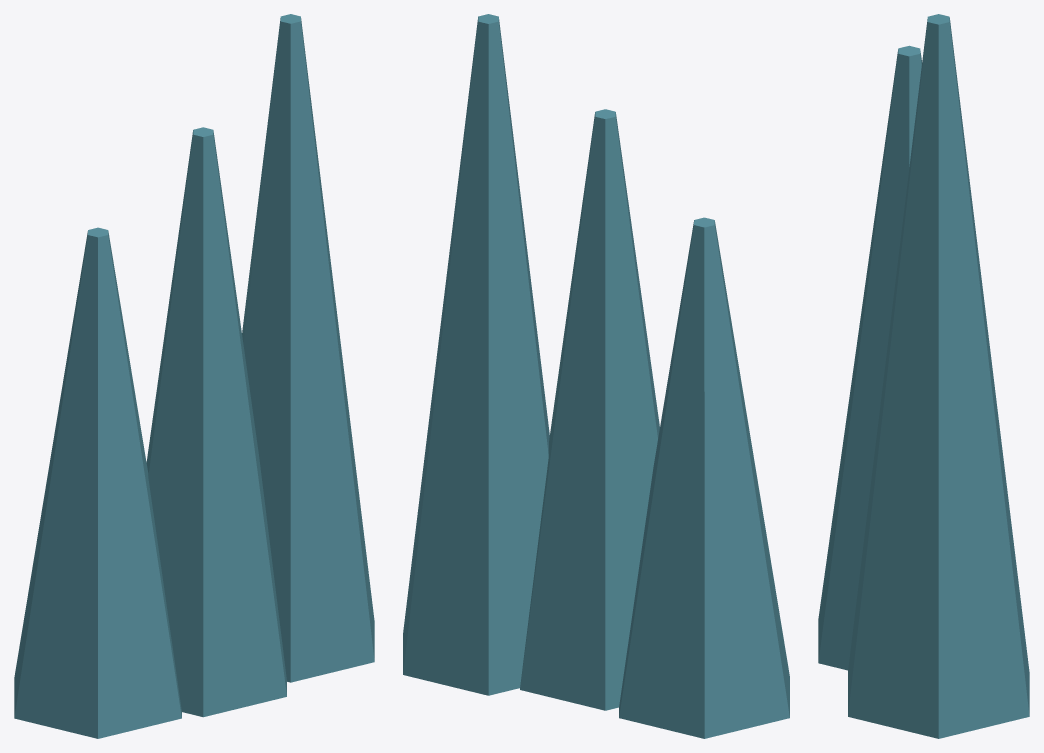
The model's file is map-boundaries-v5__frost_05.glb.
3 views of the same model, side by side, from view 1: azimuth 30°, elevation 25°; view 2: azimuth 150°, elevation 25°; view 3: azimuth 270°, elevation 25° (orthographic). The views are drawn at different scales.
Parts seen in each view (by area): view 1: frost_05; view 2: frost_05; view 3: frost_05.
Part boxes in pixels (x1=…): frost_05: x1=14, y1=14, x2=374, y2=738; frost_05: x1=403, y1=14, x2=789, y2=738; frost_05: x1=818, y1=14, x2=1029, y2=738.
Size of the model in its own units: 1.28 by 2.06 by 0.5838.
